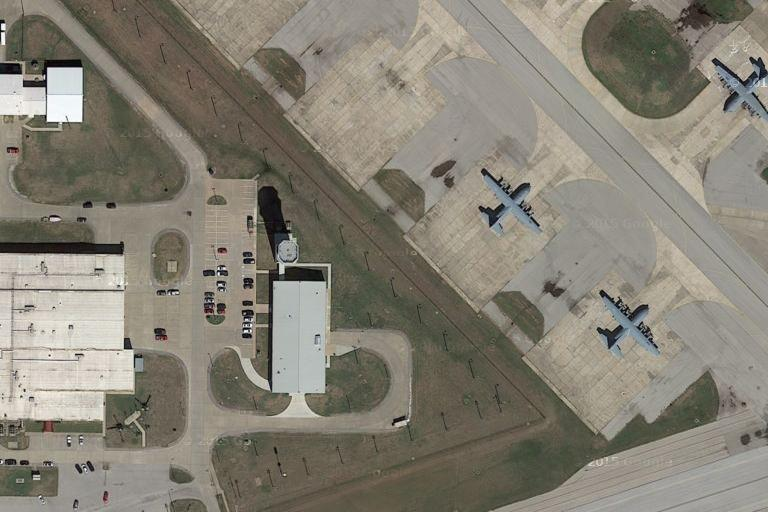C-130: (710, 46, 768, 128), (477, 172, 542, 240), (597, 293, 662, 359)
